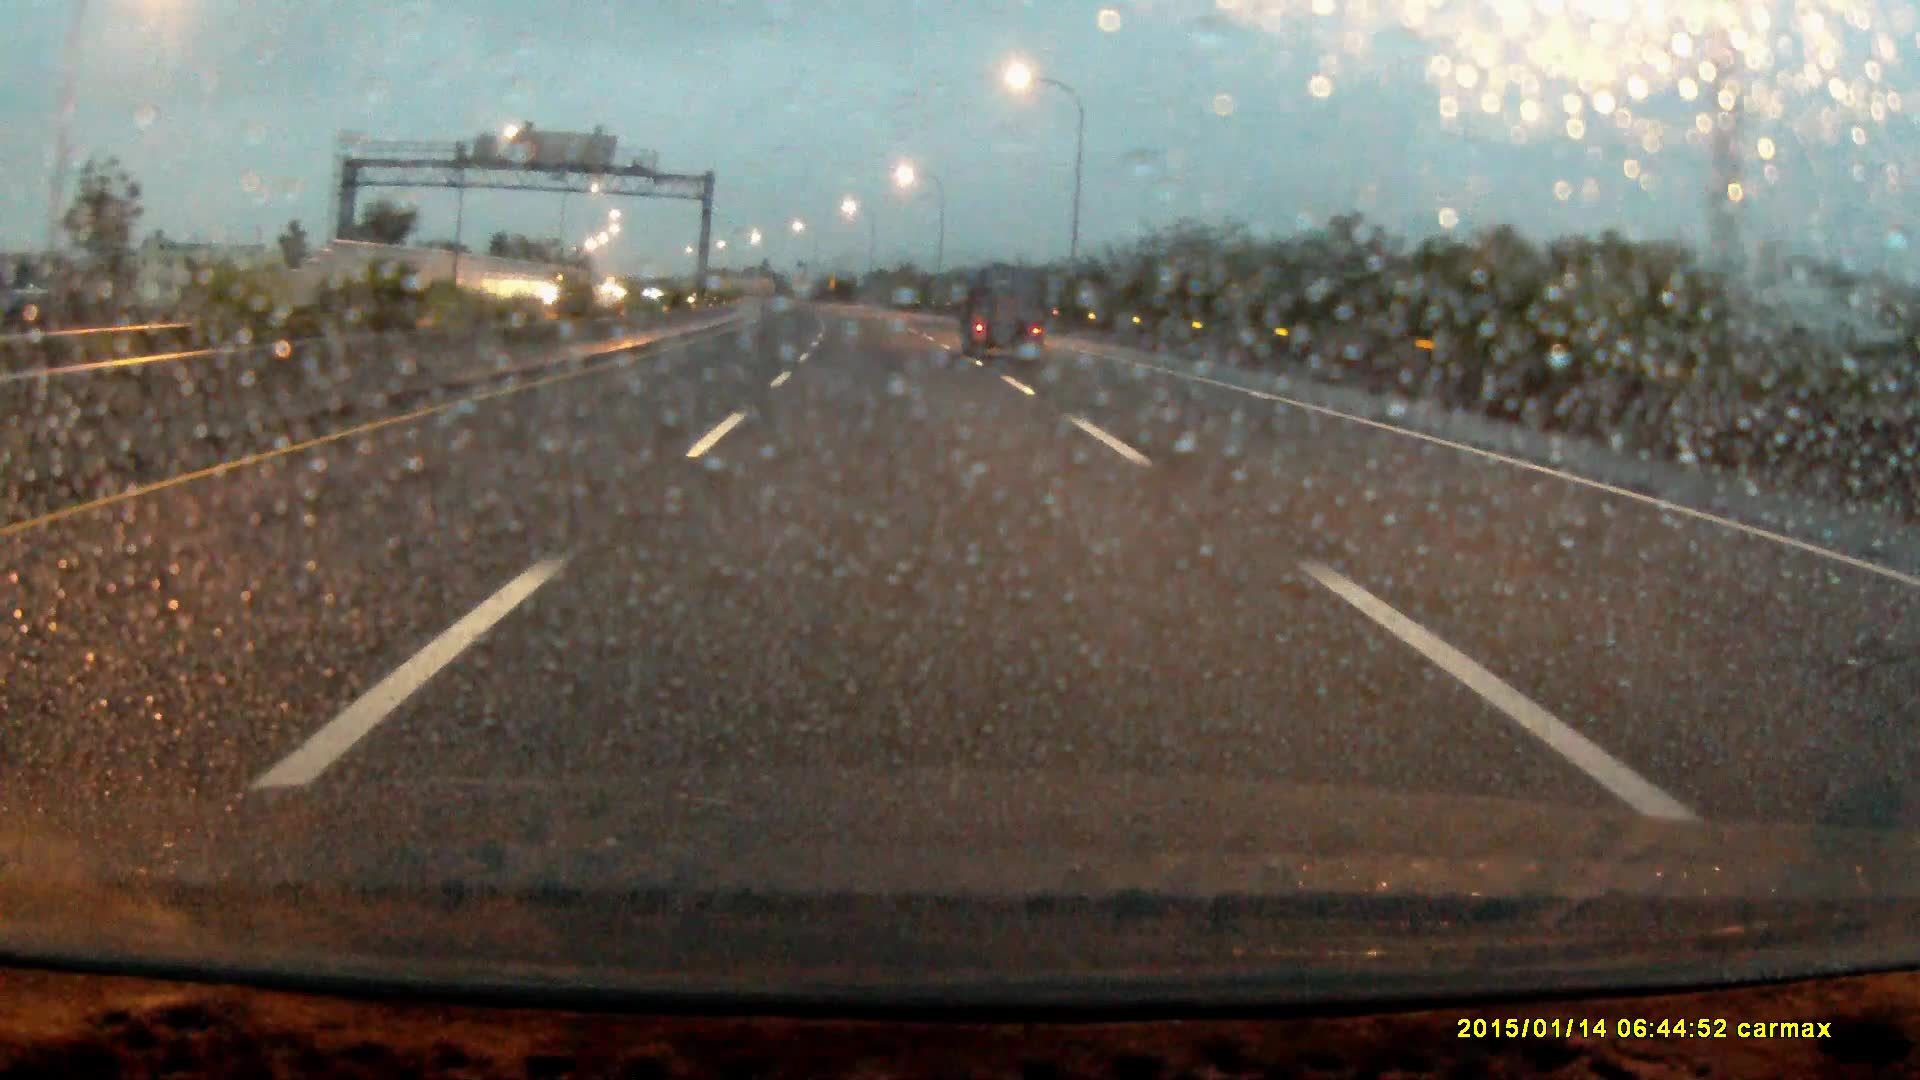vehicle: (965, 273, 1052, 363), (543, 270, 595, 309)
